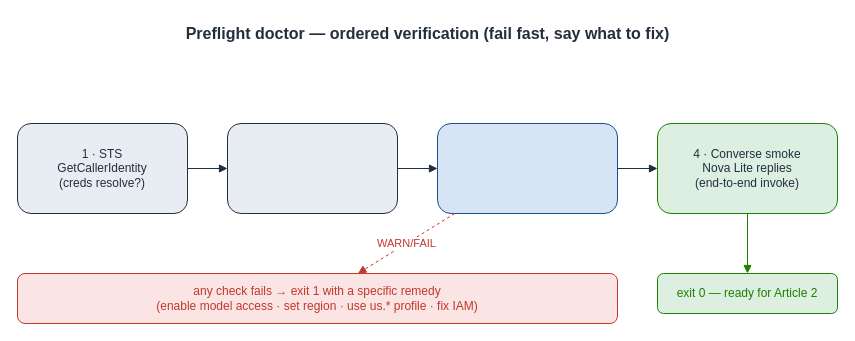
This 855x341 diagram has some shape labels left out. Here are the shapes that lost their labels. From the top down, the box of each, then its label:
(226, 122, 398, 214): 2 · Region set? AWS_REGION (us-east-1)
(436, 122, 618, 214): 3 · Bedrock list_foundation_models (Nova ids present?)
